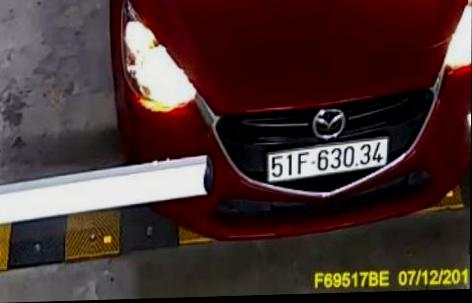License_Plate: (267, 136, 390, 176)
